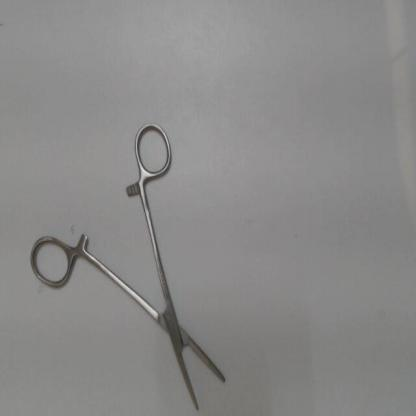Mayo Needle Holder: (26, 114, 235, 415)
